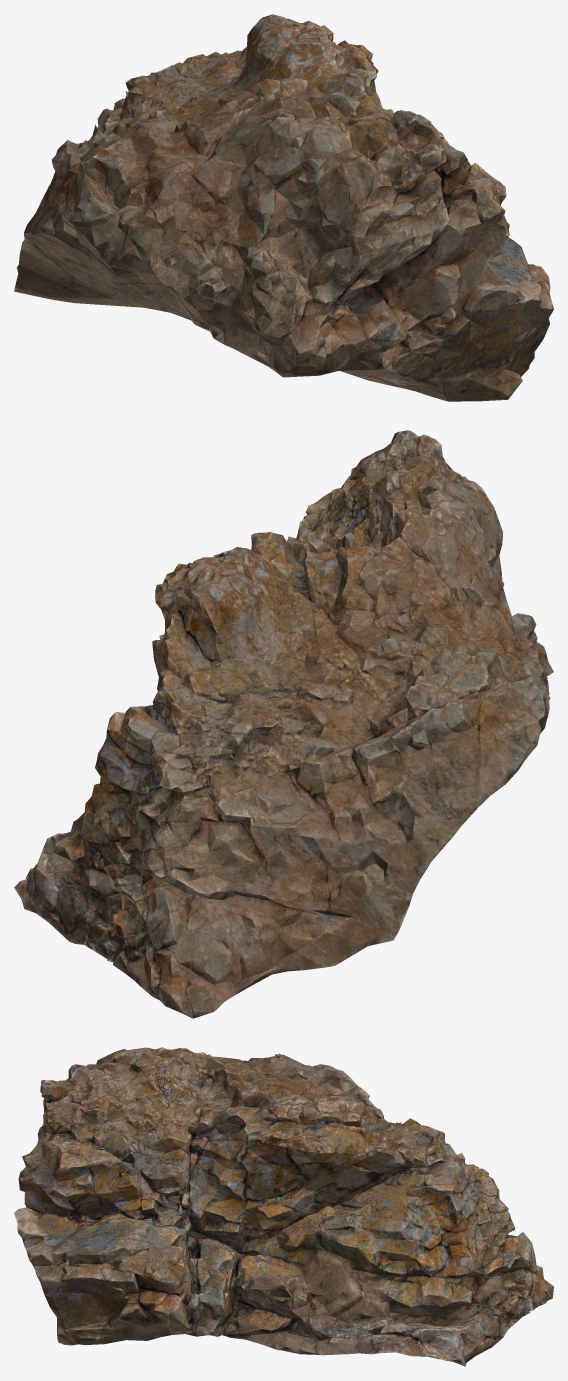
File: ff-rock-game.glb
The picture shows the model from 3 angles, top to bottom: view 1: azimuth 30°, elevation 25°; view 2: azimuth 150°, elevation 25°; view 3: azimuth 270°, elevation 25°; orthographic projection. The views are drawn at different scales.
Visible parts, largest first — view 1: FF_RockGame; view 2: FF_RockGame; view 3: FF_RockGame.
Part boxes in pixels (<box>): FF_RockGame: <box>14,14,553,401</box>; FF_RockGame: <box>14,430,553,1018</box>; FF_RockGame: <box>14,1047,553,1366</box>.
Size of the model in its own units: 1.27 by 1 by 1.83.
Materials: 1 (1 with a texture image).
